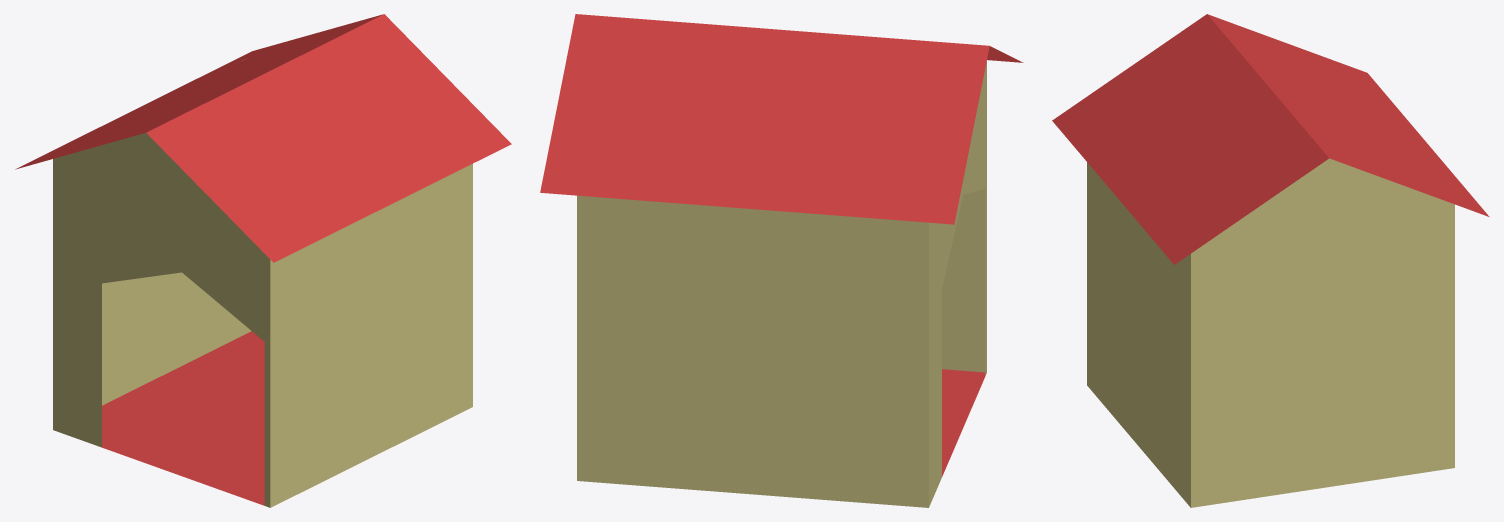
3 renders of one model, left to right at view 1: azimuth 30°, elevation 25°; view 2: azimuth 150°, elevation 25°; view 3: azimuth 270°, elevation 25°, orthographic. The views are drawn at different scales.
Size of the model in its own units: 16.64 by 16.03 by 13.77.
